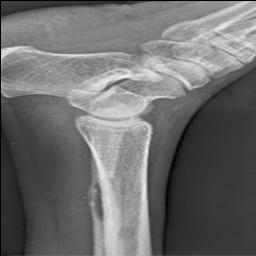cancer: (89, 167, 127, 230)
